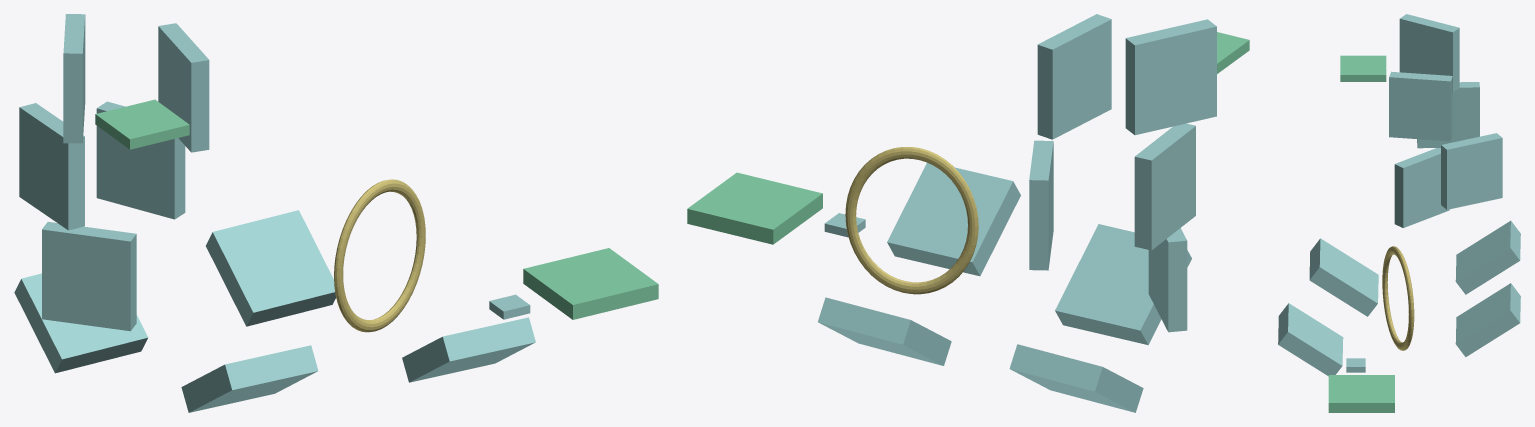
File: scene_jump.dae
The picture shows the model from 3 angles, left to right: view 1: azimuth 30°, elevation 25°; view 2: azimuth 150°, elevation 25°; view 3: azimuth 270°, elevation 25°; orthographic projection. The views are drawn at different scales.
Parts seen in each view (by area): view 1: Cube_002, Cube_005, Cube_006, Cube_004, Cube_003, Cube_008, Cube_007, Cube_001, Cube, Torus, Cube_010, Cube_009 (+1 smaller); view 2: Cube_009, Cube, Cube_001, Cube_007, Cube_006, Cube_003, Torus, Cube_008, Cube_002, Cube_005, Cube_004, Cube_010 (+1 smaller); view 3: Cube_007, Cube_004, Cube_009, Cube_001, Cube_005, Cube, Cube_008, Cube_002, Cube_003, Cube_006, Torus, Cube_010 (+1 smaller).
Boxes of the visible parts, box(x1,y1,x2,y2) form: Cube_002: box(206, 210, 335, 326); Cube_005: box(42, 221, 136, 331); Cube_006: box(19, 103, 84, 230); Cube_004: box(96, 101, 185, 219); Cube_003: box(523, 248, 658, 319); Cube_008: box(14, 273, 148, 373); Cube_007: box(158, 23, 209, 152); Cube_001: box(181, 345, 318, 412); Cube: box(402, 317, 535, 382); Torus: box(334, 179, 425, 332); Cube_010: box(95, 99, 189, 149); Cube_009: box(63, 14, 85, 143); Cube_009: box(1125, 19, 1216, 135); Cube: box(887, 162, 1020, 276); Cube_001: box(1055, 224, 1191, 345); Cube_007: box(1037, 14, 1111, 139); Cube_006: box(1134, 123, 1195, 250); Cube_003: box(687, 172, 822, 244); Torus: box(845, 147, 978, 294); Cube_008: box(1009, 344, 1143, 412); Cube_002: box(818, 297, 951, 365); Cube_005: box(1148, 228, 1187, 332); Cube_004: box(1029, 140, 1053, 270); Cube_010: box(1217, 32, 1249, 73); Cube_007: box(1389, 71, 1452, 141); Cube_004: box(1441, 133, 1502, 209); Cube_009: box(1399, 14, 1459, 92); Cube_001: box(1309, 238, 1378, 316); Cube_005: box(1394, 148, 1449, 227); Cube: box(1278, 303, 1343, 376); Cube_008: box(1455, 220, 1520, 294); Cube_002: box(1455, 283, 1520, 356); Cube_003: box(1328, 375, 1394, 412); Cube_006: box(1417, 82, 1479, 148); Torus: box(1382, 246, 1414, 350); Cube_010: box(1340, 55, 1386, 81).
Size of the model in its own units: 12.52 by 7.33 by 8.1.
